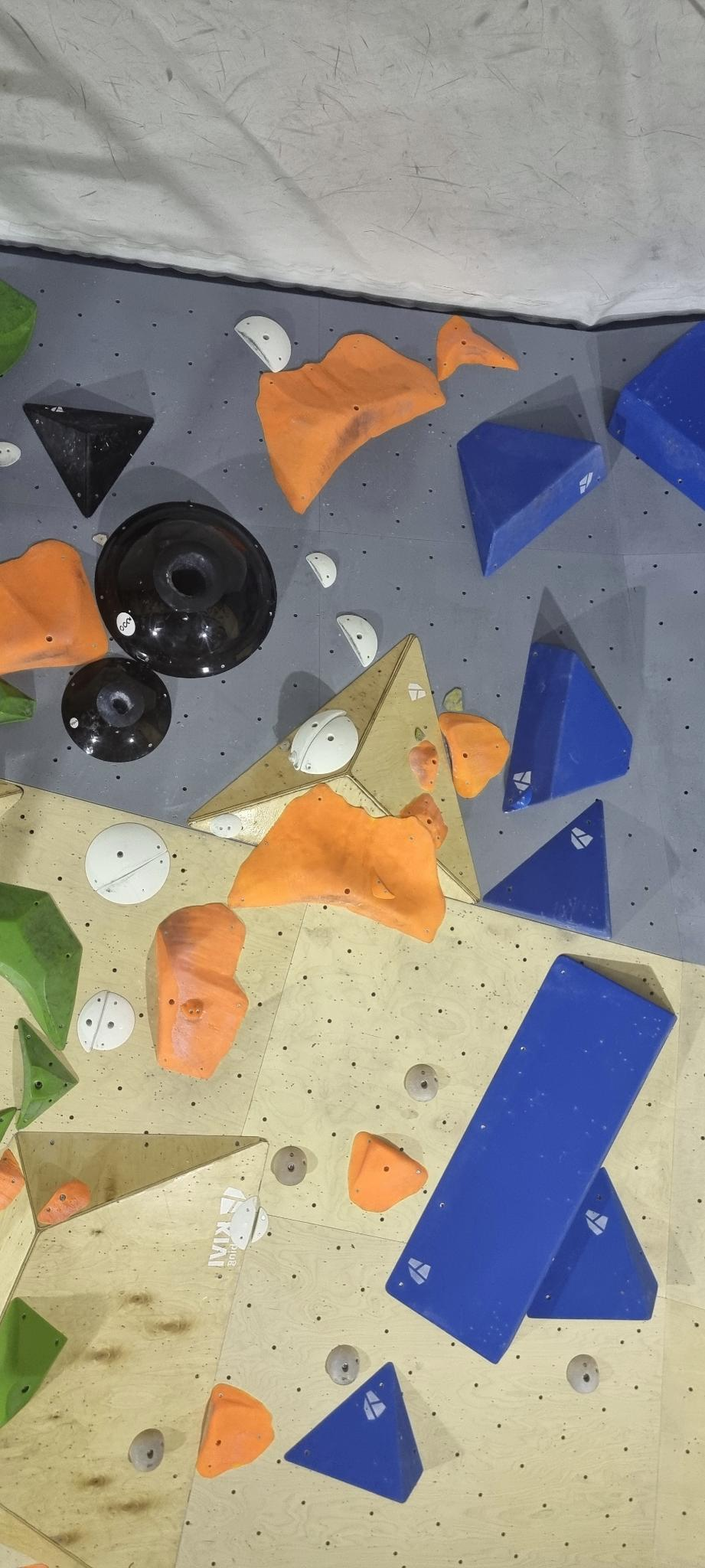hold: (387, 956, 675, 1363), (228, 784, 446, 943), (257, 334, 446, 514), (95, 503, 277, 678), (458, 423, 606, 577), (503, 644, 632, 813), (528, 1169, 658, 1320), (285, 1363, 422, 1503), (609, 321, 704, 509), (483, 800, 612, 938), (156, 904, 248, 1078), (23, 404, 154, 517), (0, 541, 108, 675), (0, 884, 82, 1050), (62, 658, 171, 763), (0, 1298, 67, 1427), (196, 1384, 274, 1478), (16, 1019, 78, 1130), (348, 1132, 428, 1213), (439, 713, 510, 798), (85, 823, 167, 891), (437, 316, 518, 382), (97, 850, 170, 904), (301, 715, 359, 775), (289, 709, 346, 770), (0, 281, 36, 375), (235, 315, 291, 372), (401, 793, 448, 850), (93, 992, 135, 1051), (37, 1181, 90, 1225), (337, 614, 377, 668), (77, 992, 107, 1051), (0, 679, 36, 724), (409, 741, 439, 793), (128, 1429, 164, 1472), (229, 1197, 258, 1250), (0, 1149, 24, 1211), (271, 1146, 307, 1186), (325, 1345, 359, 1385), (404, 1065, 439, 1102), (567, 1355, 599, 1394), (306, 552, 337, 588), (209, 813, 243, 838), (370, 870, 395, 900), (251, 1207, 269, 1244), (0, 441, 20, 467), (181, 999, 204, 1021), (509, 788, 532, 809), (443, 688, 463, 712), (415, 727, 428, 743), (93, 533, 107, 547), (288, 748, 297, 769)
volume: (183, 630, 483, 909)
